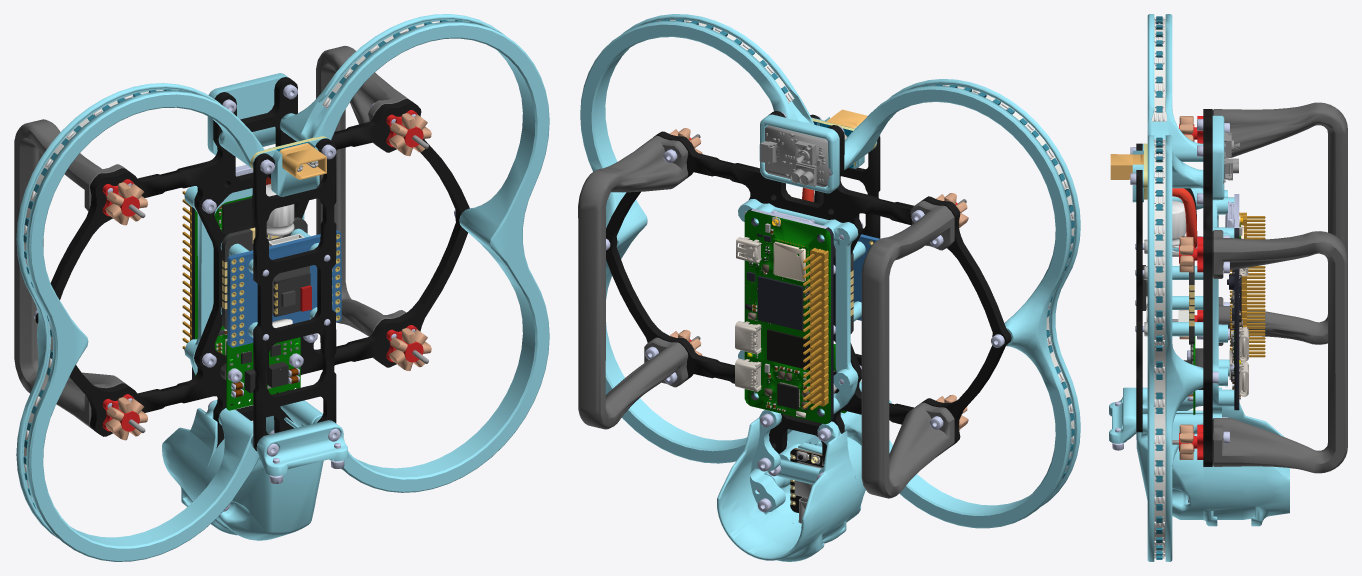
File: obrik_one_rangefinder_clean.obj
3 views of the same model, side by side, from view 1: azimuth 30°, elevation 25°; view 2: azimuth 150°, elevation 25°; view 3: azimuth 270°, elevation 25° (orthographic). The views are drawn at different scales.
Visible parts, largest first — view 1: obrik_one_rangefinder_clean; view 2: obrik_one_rangefinder_clean; view 3: obrik_one_rangefinder_clean.
Part boxes in pixels (x1,y1,x2,y2): obrik_one_rangefinder_clean: (14, 14, 549, 561); obrik_one_rangefinder_clean: (578, 14, 1080, 561); obrik_one_rangefinder_clean: (1109, 14, 1347, 561).
Bounding box in the file's own units: 0.1699 × 0.1552 × 0.0773.
